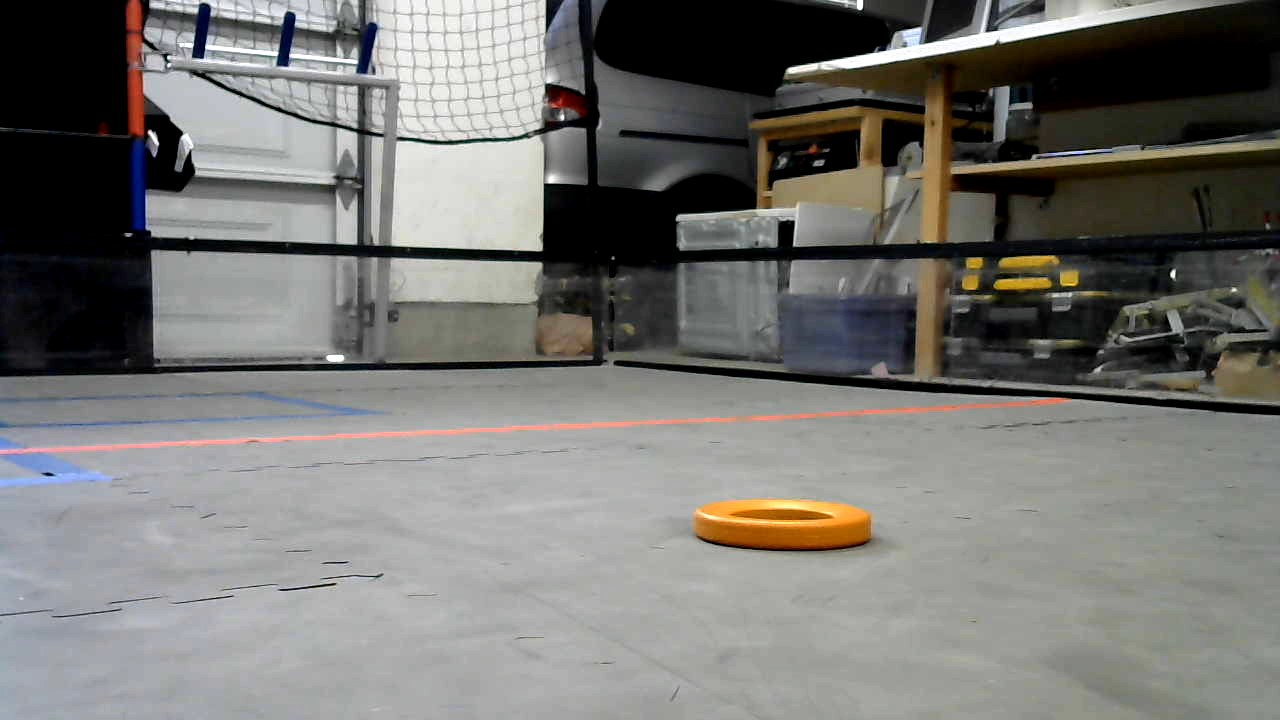OneStack: (694, 502, 873, 550)
